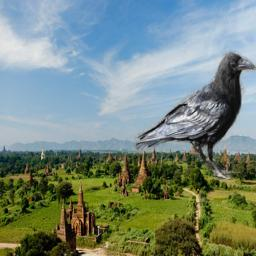Crow: (133, 50, 256, 180)
